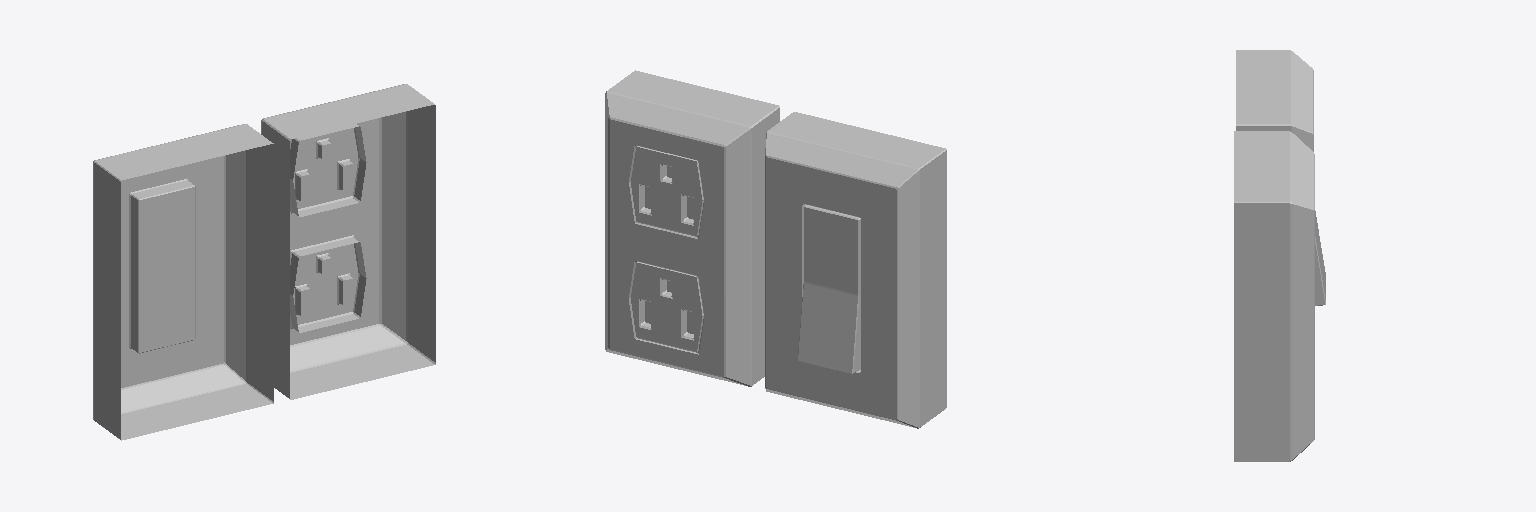
The model's file is Classic style porch house Wall outlets and switches pack.obj.
3 renders of one model, left to right at view 1: azimuth 30°, elevation 25°; view 2: azimuth 150°, elevation 25°; view 3: azimuth 270°, elevation 25°, orthographic.
Visible parts, largest first — view 1: Light_switch.003_Plane.344, Wall_outlet.007_Plane.339; view 2: Light_switch.003_Plane.344, Wall_outlet.007_Plane.339; view 3: Wall_outlet.007_Plane.339, Light_switch.003_Plane.344.
Boxes of the visible parts, x1=… form: Light_switch.003_Plane.344: x1=93, y1=124, x2=273, y2=440; Wall_outlet.007_Plane.339: x1=261, y1=84, x2=435, y2=399; Light_switch.003_Plane.344: x1=765, y1=112, x2=946, y2=428; Wall_outlet.007_Plane.339: x1=605, y1=70, x2=779, y2=386; Wall_outlet.007_Plane.339: x1=1234, y1=131, x2=1314, y2=461; Light_switch.003_Plane.344: x1=1236, y1=50, x2=1325, y2=305.
Size of the model in its own units: 0.1902 by 0.151 by 0.0486.